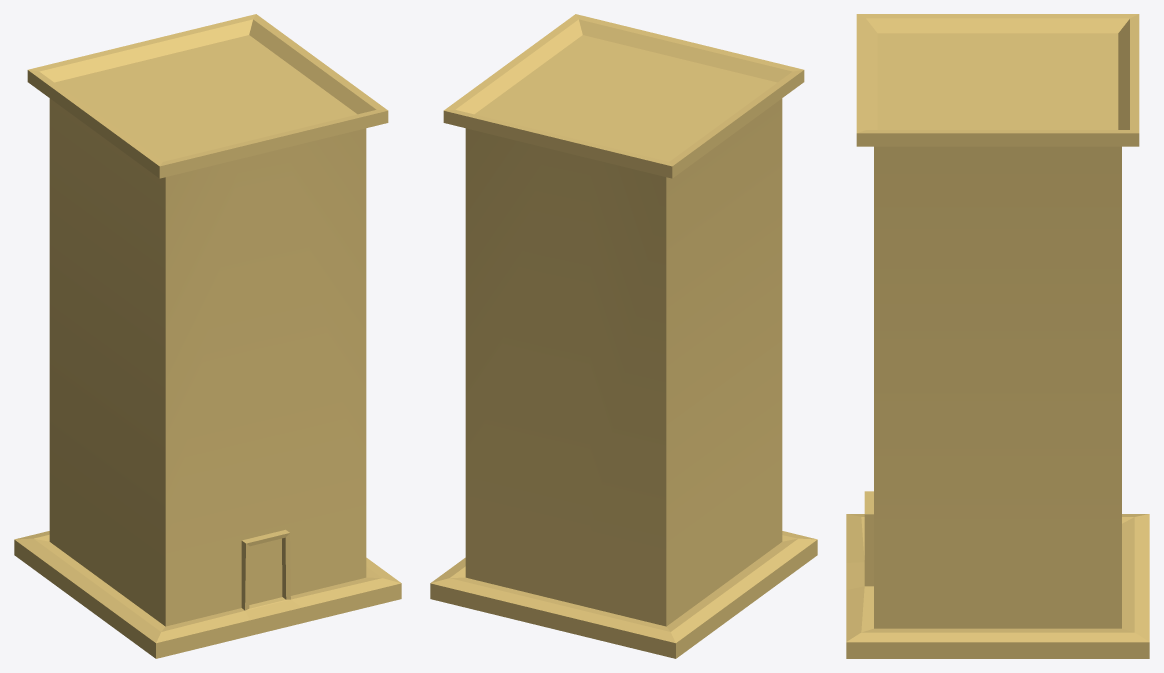
Rendered from Building2.fbx.
The picture shows the model from 3 angles, left to right: view 1: azimuth 30°, elevation 25°; view 2: azimuth 150°, elevation 25°; view 3: azimuth 270°, elevation 25°; orthographic projection. The views are drawn at different scales.
Visible parts, largest first — view 1: Building2; view 2: Building2; view 3: Building2.
Boxes of the visible parts, x1,y1,x2,y2 form: Building2: (14,14,401,658); Building2: (430,14,817,658); Building2: (846,14,1149,658).
Size of the model in its own units: 5.57 by 10.55 by 5.57.
